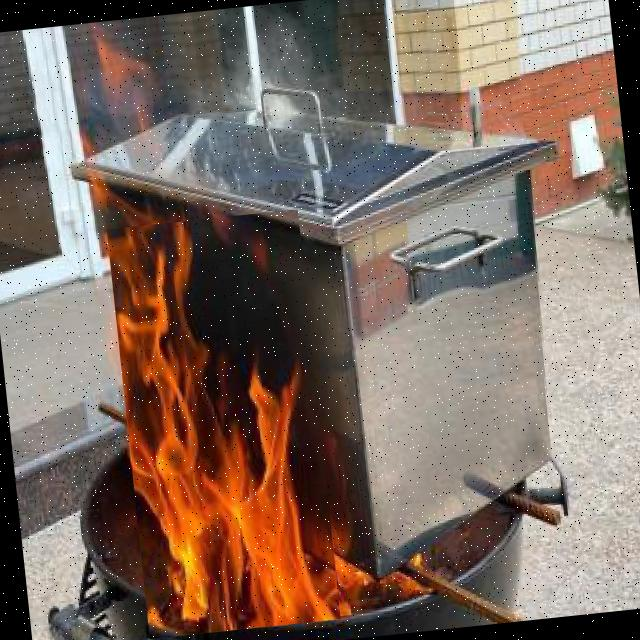fire: (107, 208, 340, 638)
